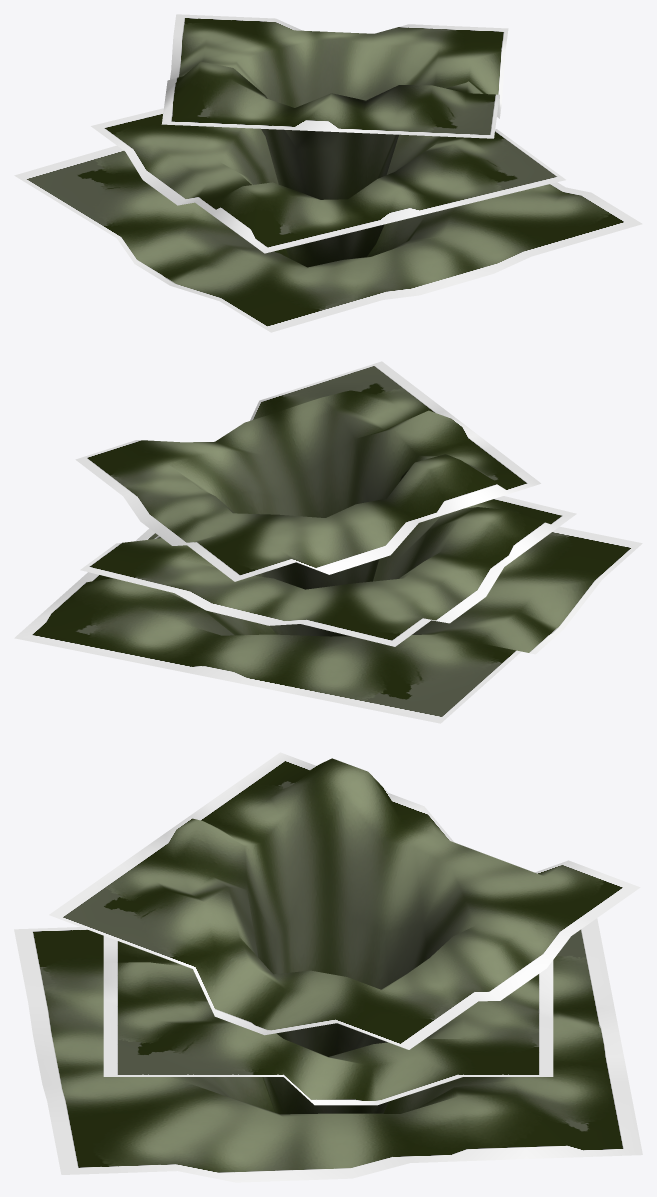
File: Grass.fbx
3 renders of one model, top to bottom at view 1: azimuth 30°, elevation 25°; view 2: azimuth 150°, elevation 25°; view 3: azimuth 270°, elevation 25°, orthographic. The views are drawn at different scales.
Visible parts, largest first — view 1: Grass3; view 2: Grass3; view 3: Grass3.
Boxes of the visible parts, x1,y1,x2,y2 form: Grass3: (14, 14, 642, 332); Grass3: (14, 361, 642, 723); Grass3: (14, 752, 642, 1182).
Bounding box in the file's own units: 0.0952 × 0.0548 × 0.0952.
